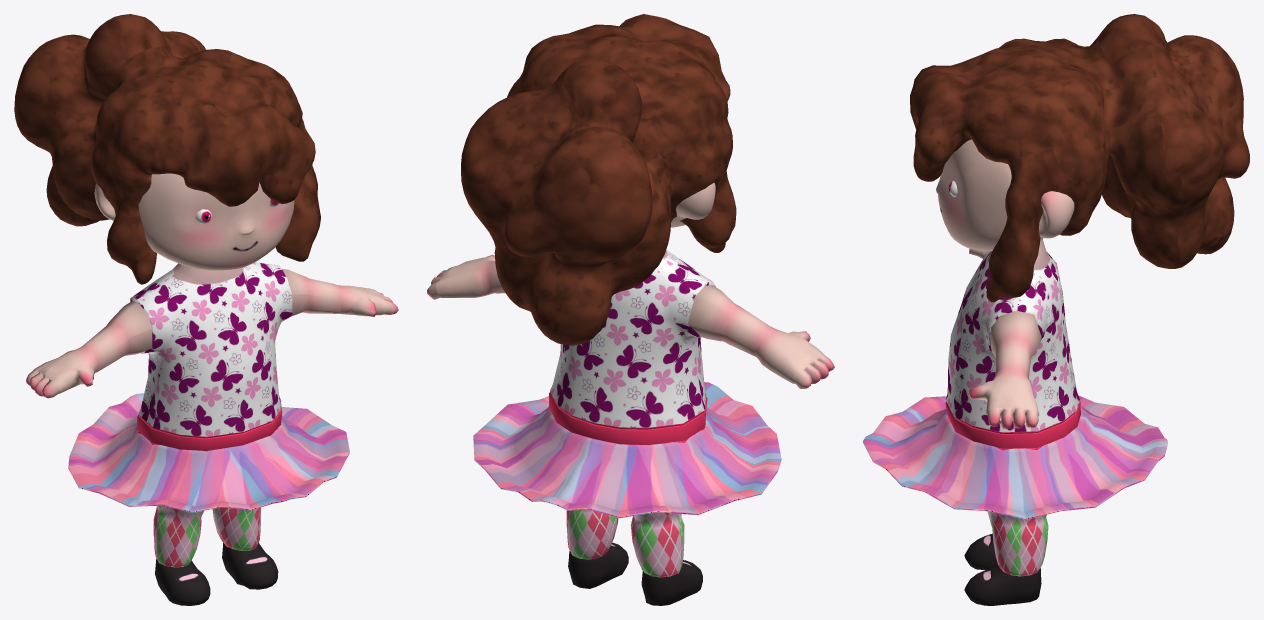
Rendered from girl.fbx.
The picture shows the model from 3 angles, left to right: view 1: azimuth 30°, elevation 25°; view 2: azimuth 150°, elevation 25°; view 3: azimuth 270°, elevation 25°; orthographic projection. The views are drawn at different scales.
Parts seen in each view (by area): view 1: Girl_Body_Geo, Girl_Hair_Geo; view 2: Girl_Body_Geo, Girl_Hair_Geo; view 3: Girl_Hair_Geo, Girl_Body_Geo.
Part boxes in pixels (bbox=[...]): Girl_Body_Geo: bbox=[26, 173, 398, 605]; Girl_Hair_Geo: bbox=[14, 14, 320, 284]; Girl_Body_Geo: bbox=[427, 182, 834, 605]; Girl_Hair_Geo: bbox=[461, 14, 736, 345]; Girl_Hair_Geo: bbox=[910, 14, 1249, 302]; Girl_Body_Geo: bbox=[863, 139, 1167, 605].
Size of the model in its own units: 0.237 by 0.3352 by 0.2139.
